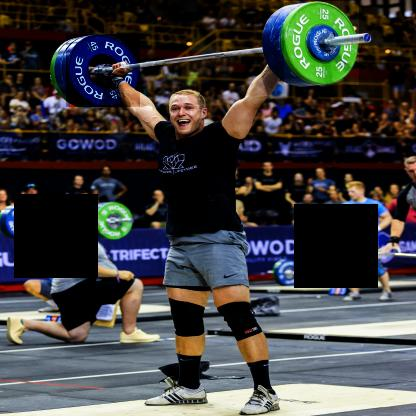barbell: (285, 2, 360, 86), (67, 35, 141, 108)
